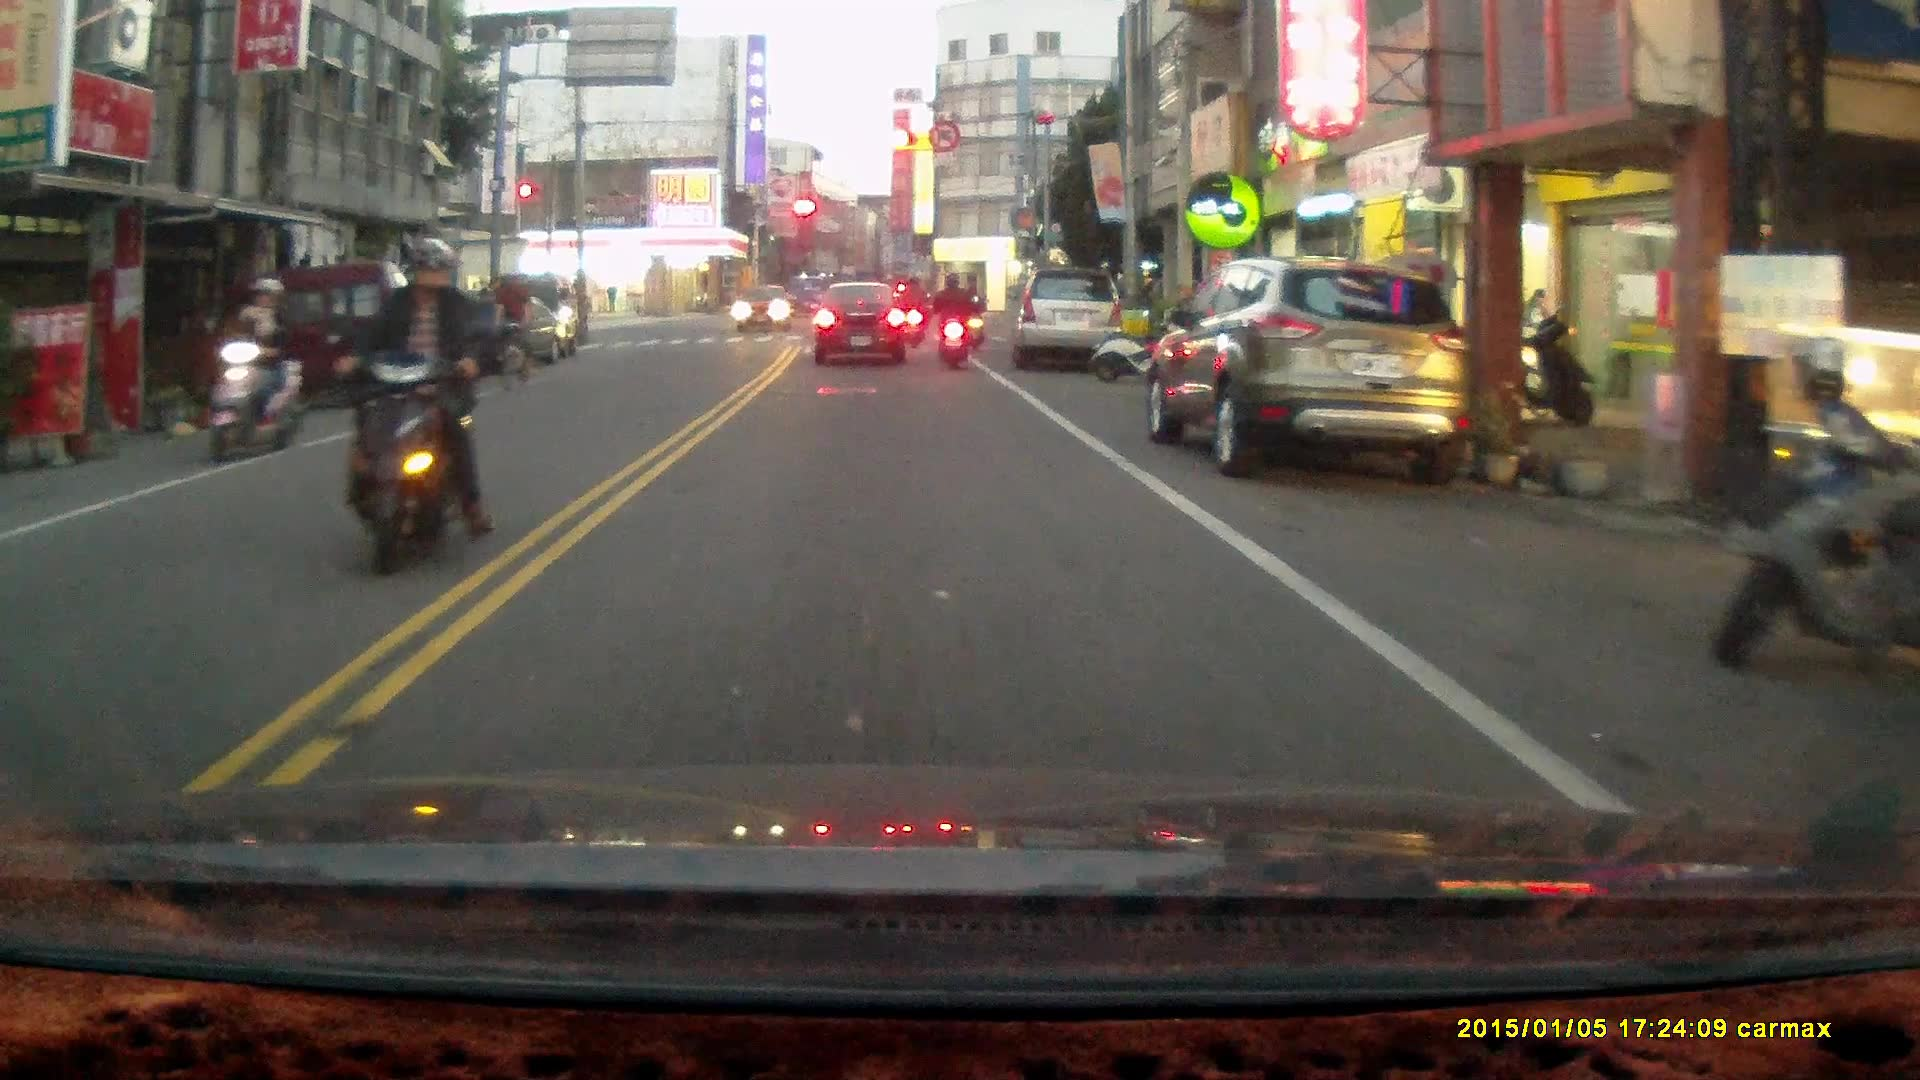rider: (329, 235, 495, 577), (202, 278, 304, 465), (490, 268, 534, 394), (926, 269, 973, 372), (895, 272, 929, 347), (959, 279, 986, 351)
vehicle: (1151, 257, 1465, 487), (1015, 271, 1127, 375), (815, 281, 912, 363), (726, 277, 789, 331)
